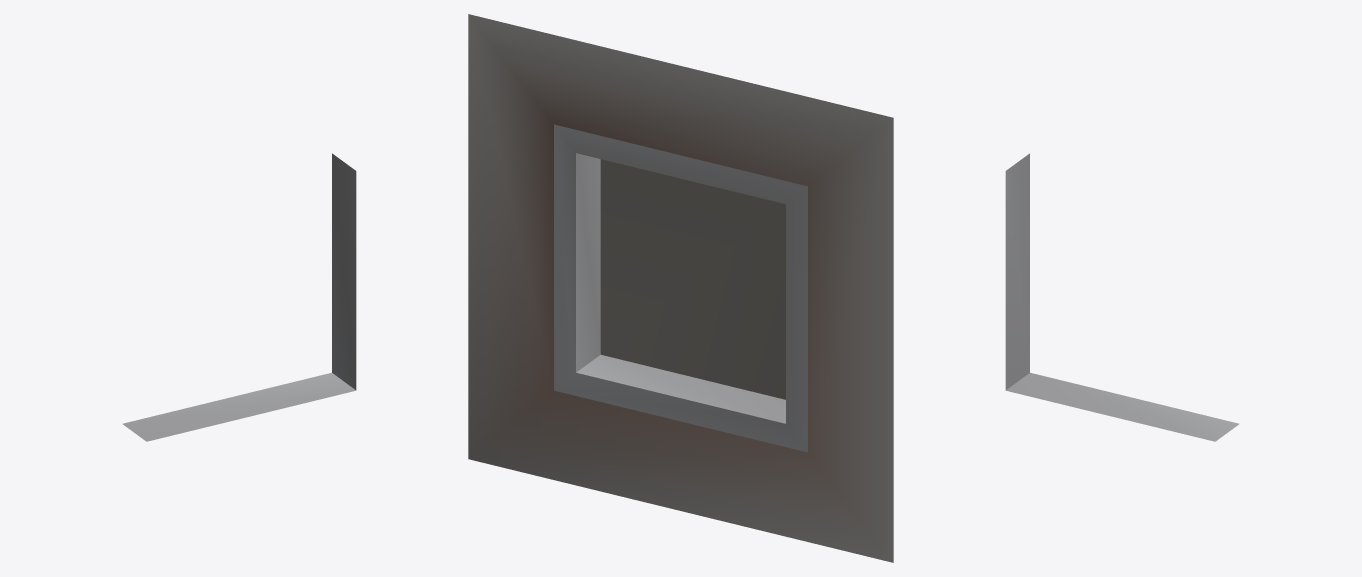
File: wall-a-flat-window.glb
3 views of the same model, side by side, from view 1: azimuth 30°, elevation 25°; view 2: azimuth 150°, elevation 25°; view 3: azimuth 330°, elevation 25° (orthographic).
Parts seen in each view (by area): view 1: wall-a-flat-window; view 2: wall-a-flat-window; view 3: wall-a-flat-window.
Boxes of the visible parts, left/top/right/bottom form: wall-a-flat-window: left=122, top=153, right=356, bottom=441; wall-a-flat-window: left=468, top=14, right=893, bottom=562; wall-a-flat-window: left=1005, top=153, right=1239, bottom=441.
Size of the model in its own units: 1 by 1 by 0.1.
